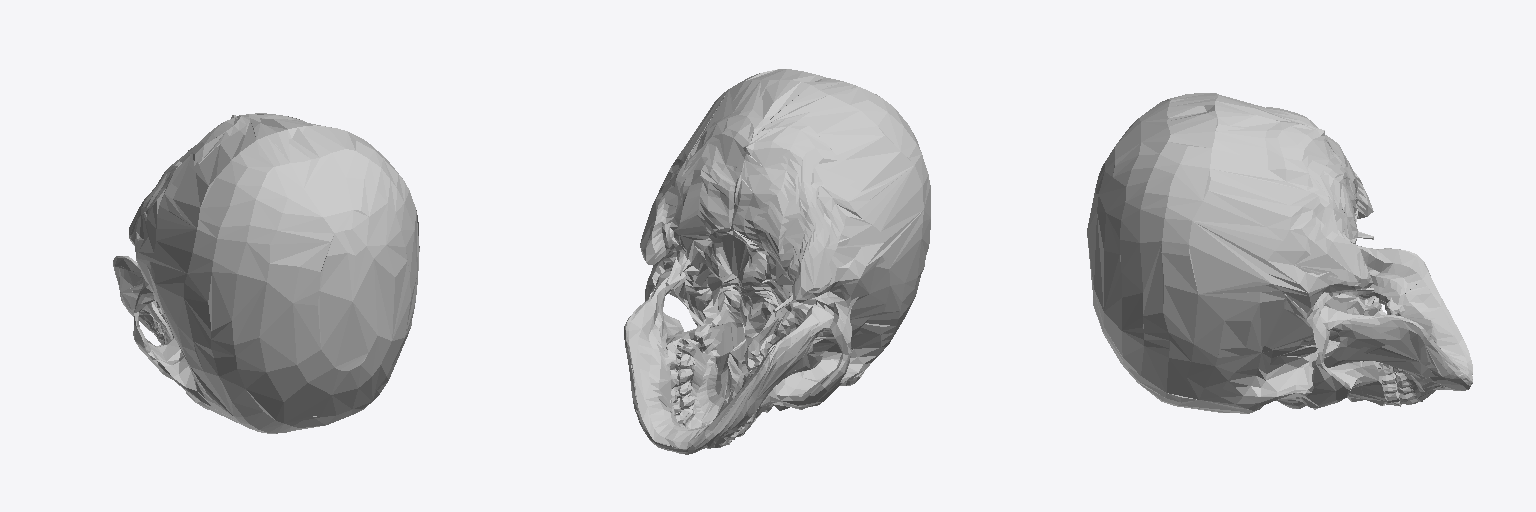
The model's file is human_skull.obj.
The picture shows the model from 3 angles: view 1: azimuth 30°, elevation 25°; view 2: azimuth 150°, elevation 25°; view 3: azimuth 270°, elevation 25°; orthographic projection.
Parts seen in each view (by area): view 1: skull; view 2: skull; view 3: skull.
Part boxes in pixels (left/top/right/bottom): skull: left=113, top=113, right=419, bottom=433; skull: left=624, top=69, right=930, bottom=454; skull: left=1087, top=93, right=1472, bottom=413.
Bounding box in the file's own units: 1.24 × 1.57 × 1.83.